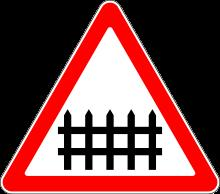Barrier Ahead: (12, 5, 209, 189)
